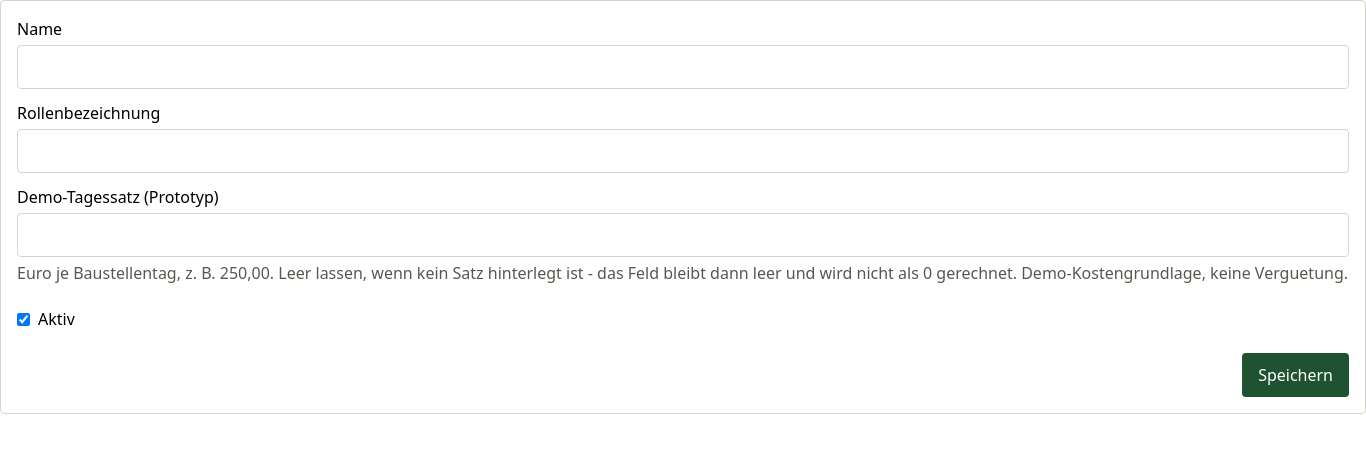
it: EmployeeForm › meldet einen leeren Namen inline und sendet nichts
The width and height of the screenshot is (1366, 459).
Click the button "Speichern". click: (1296, 375)
box: [1242,353,1349,397]
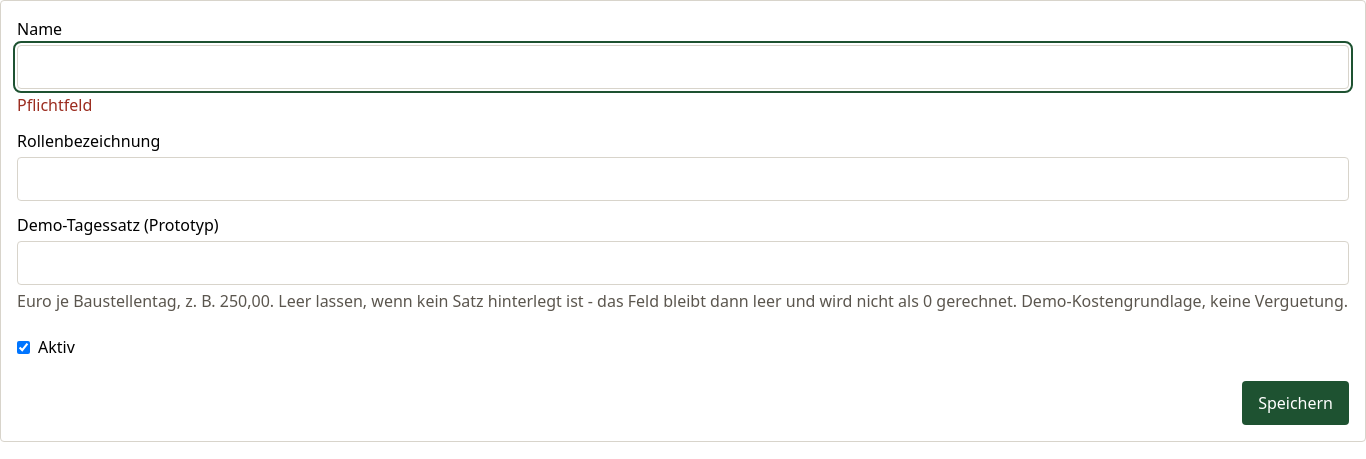
Now the message reads "Pflichtfeld", box [17,94,92,116]
